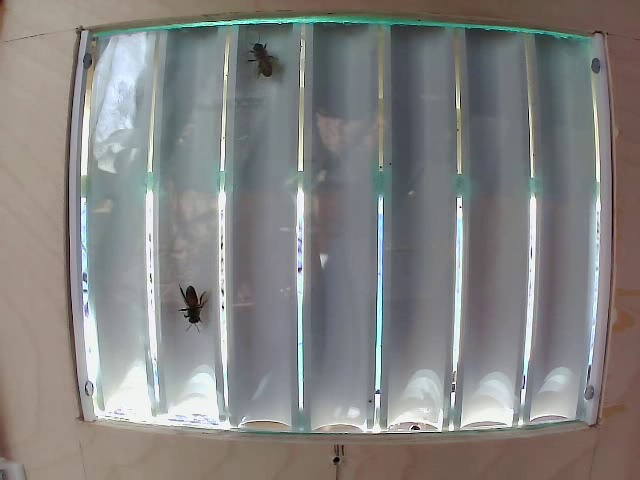bee: (164, 275, 205, 330), (246, 36, 281, 83)
